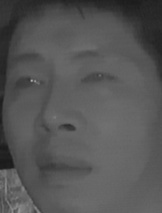eye: (81, 66, 114, 91), (13, 72, 46, 95)
mouth: (32, 146, 91, 186)
